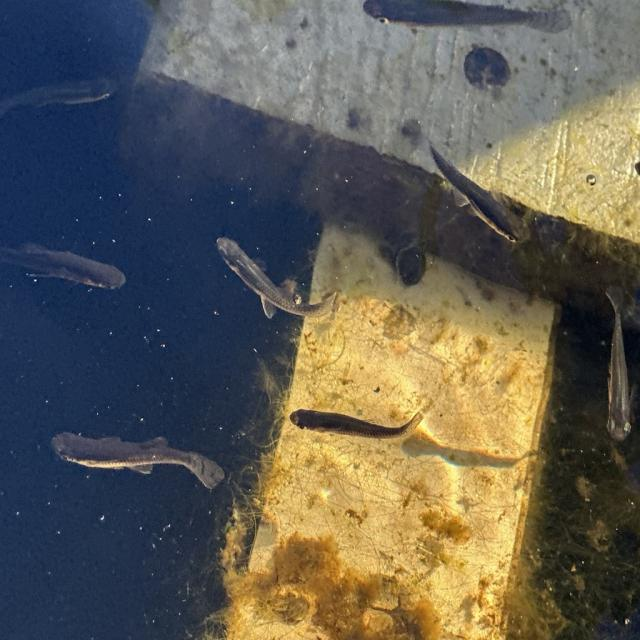Sivrisinek Baligi: (428, 123, 541, 264), (53, 408, 228, 498), (208, 220, 340, 332), (358, 0, 576, 57), (0, 226, 135, 314), (286, 386, 422, 454), (584, 279, 638, 446), (0, 74, 115, 123)
